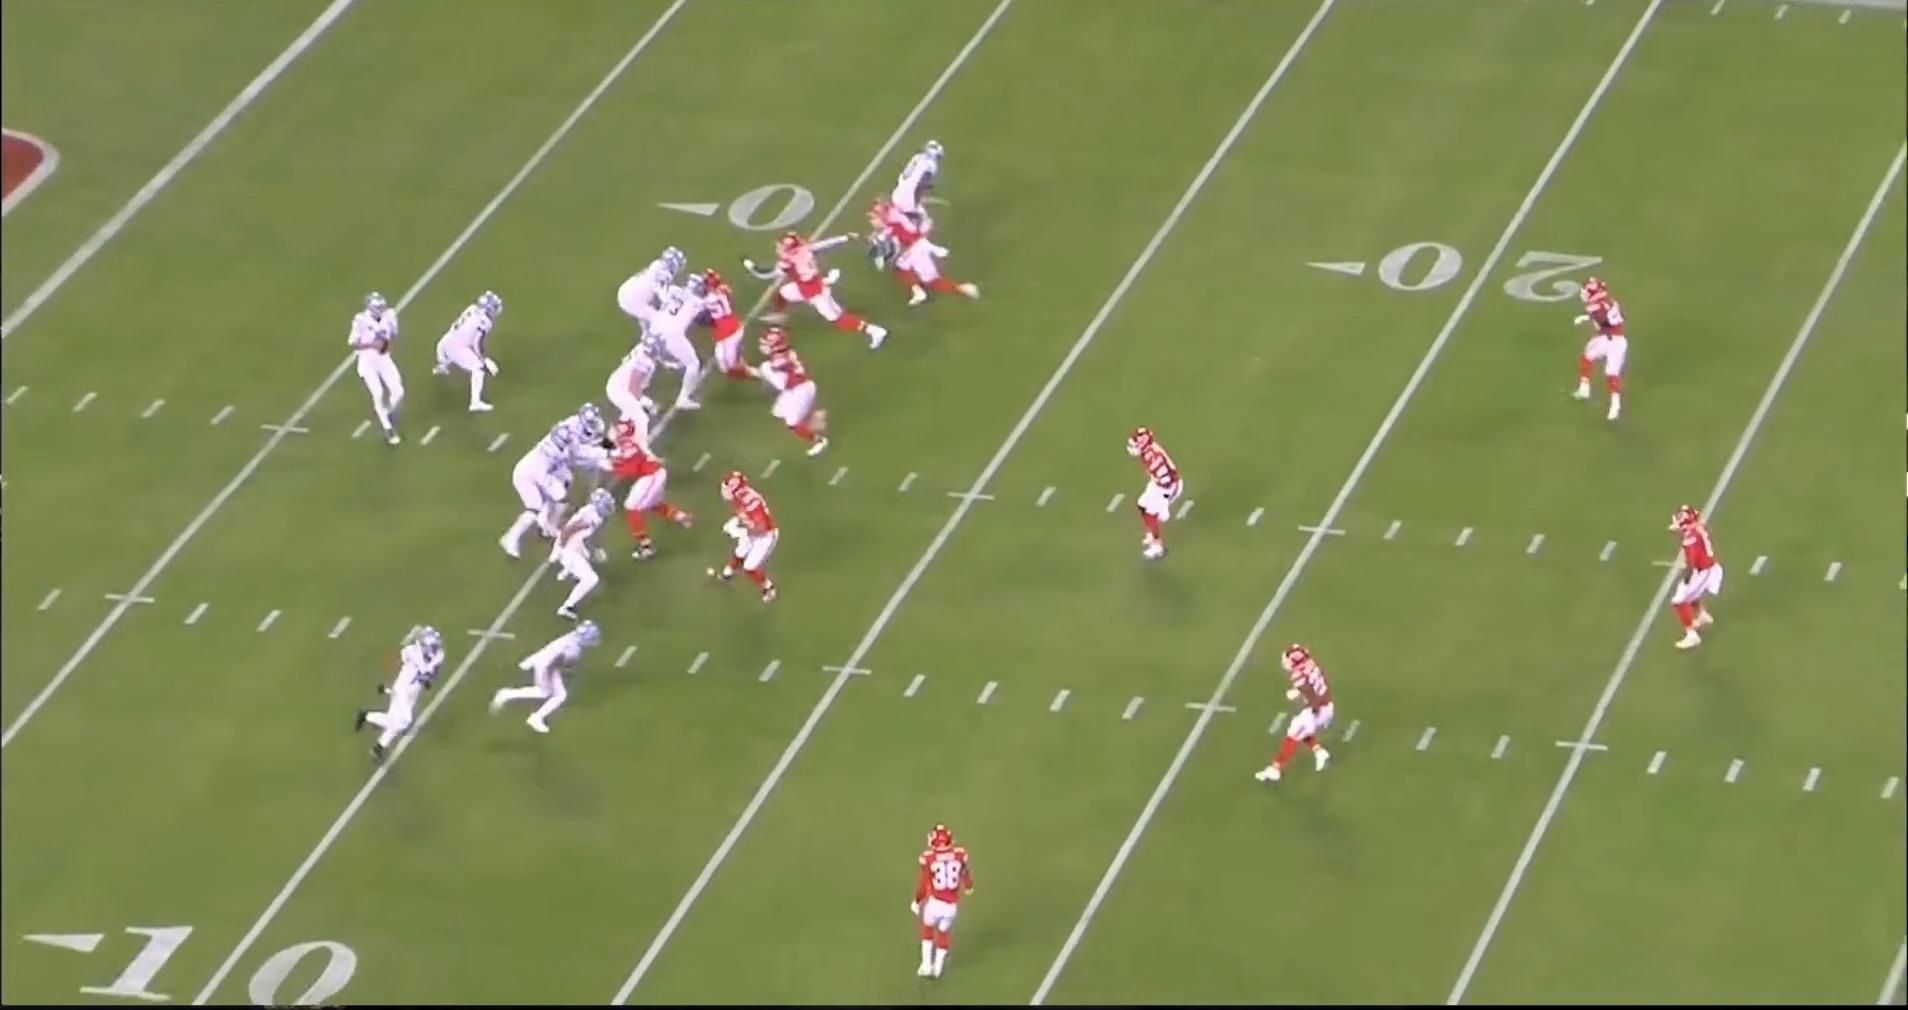player: (754, 223, 899, 350), (501, 407, 602, 565), (490, 615, 609, 735), (601, 416, 698, 563), (349, 622, 450, 761), (1252, 642, 1342, 790), (873, 202, 984, 312), (627, 270, 711, 414), (343, 290, 413, 456), (912, 823, 985, 981), (1566, 268, 1637, 424), (759, 330, 840, 464), (705, 468, 782, 604), (686, 267, 758, 410), (881, 133, 960, 263), (428, 285, 503, 419), (541, 492, 614, 628), (1665, 502, 1728, 655), (1117, 423, 1180, 570), (621, 243, 697, 339), (599, 331, 664, 443), (550, 399, 605, 500)
